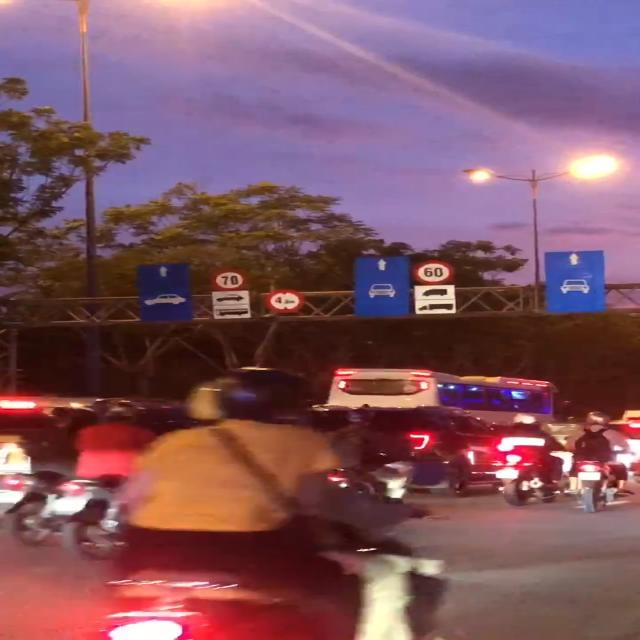Bien bao han che chieu cao: (261, 283, 307, 316)
Bien bao toc do toi da cho phep: (407, 256, 462, 286), (203, 266, 250, 293)
